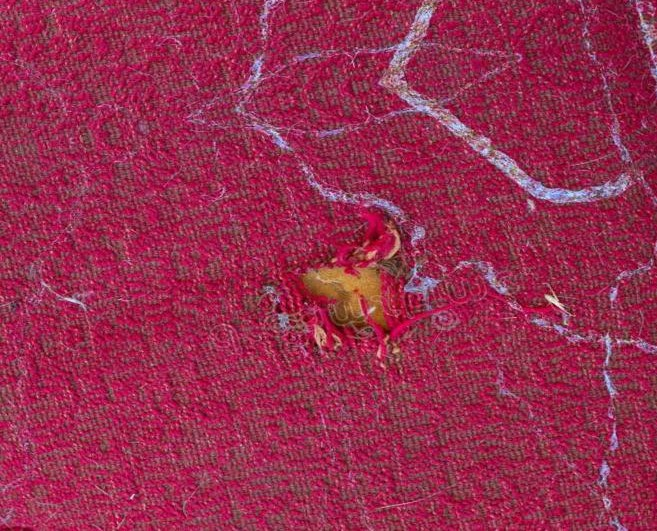hole: (285, 236, 427, 368)
